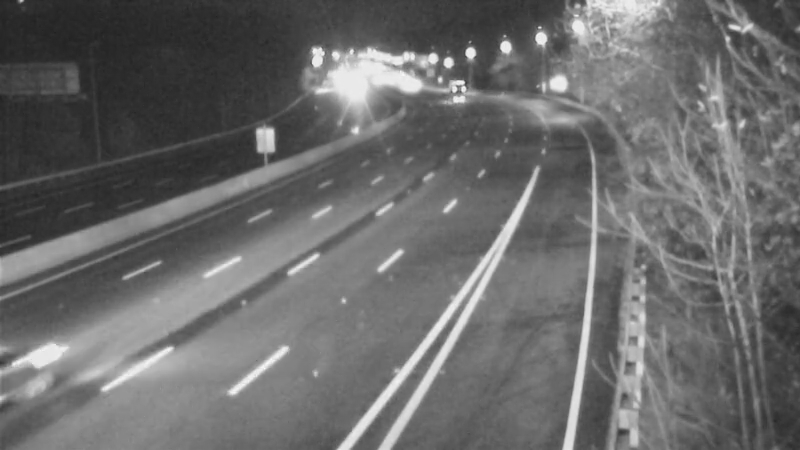vehicle: (1, 318, 97, 428), (430, 73, 480, 123)
